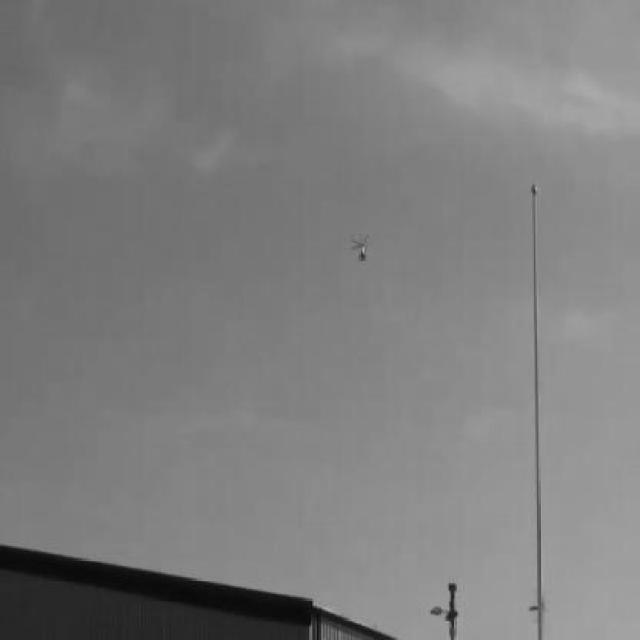helikopter: (352, 231, 372, 260)
